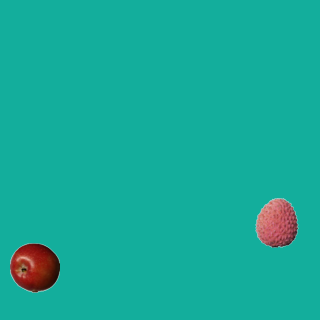Apple Braeburn: (9, 242, 59, 292)
Lychee: (251, 197, 301, 247)
